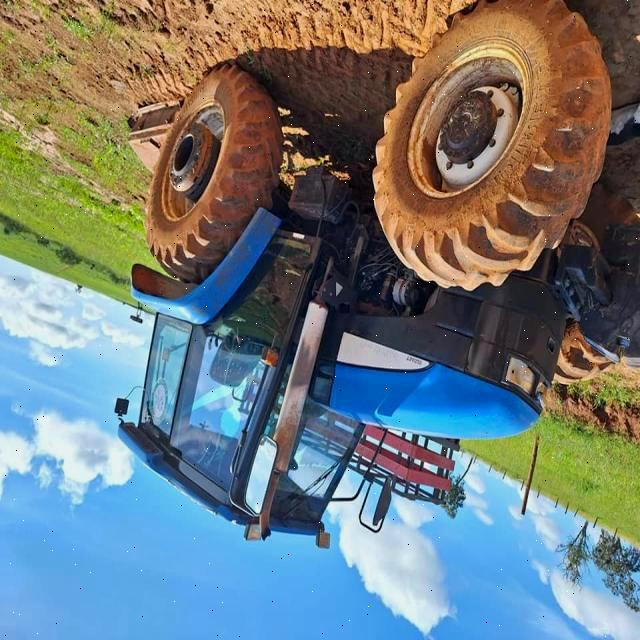Tratores - v5 YOLO V8L 2024-11-13: (114, 0, 606, 554)
